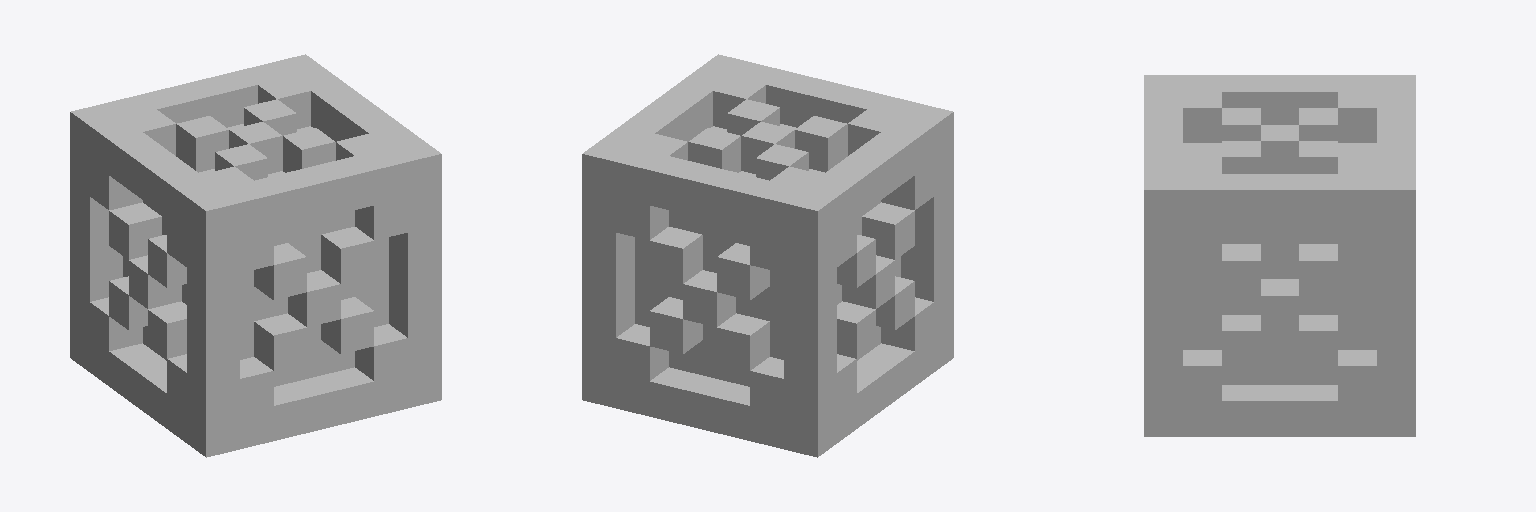
Rendered from villageCrateLarge-0.obj.
3 renders of one model, left to right at view 1: azimuth 30°, elevation 25°; view 2: azimuth 150°, elevation 25°; view 3: azimuth 270°, elevation 25°, orthographic.
Parts seen in each view (by area): view 1: object 1; view 2: object 1; view 3: object 1.
Part boxes in pixels (x1,y1,x2,y2): object 1: (70,54,441,457); object 1: (582,54,953,457); object 1: (1144,75,1415,436).
Bounding box in the file's own units: 0.7 × 0.7 × 0.7.